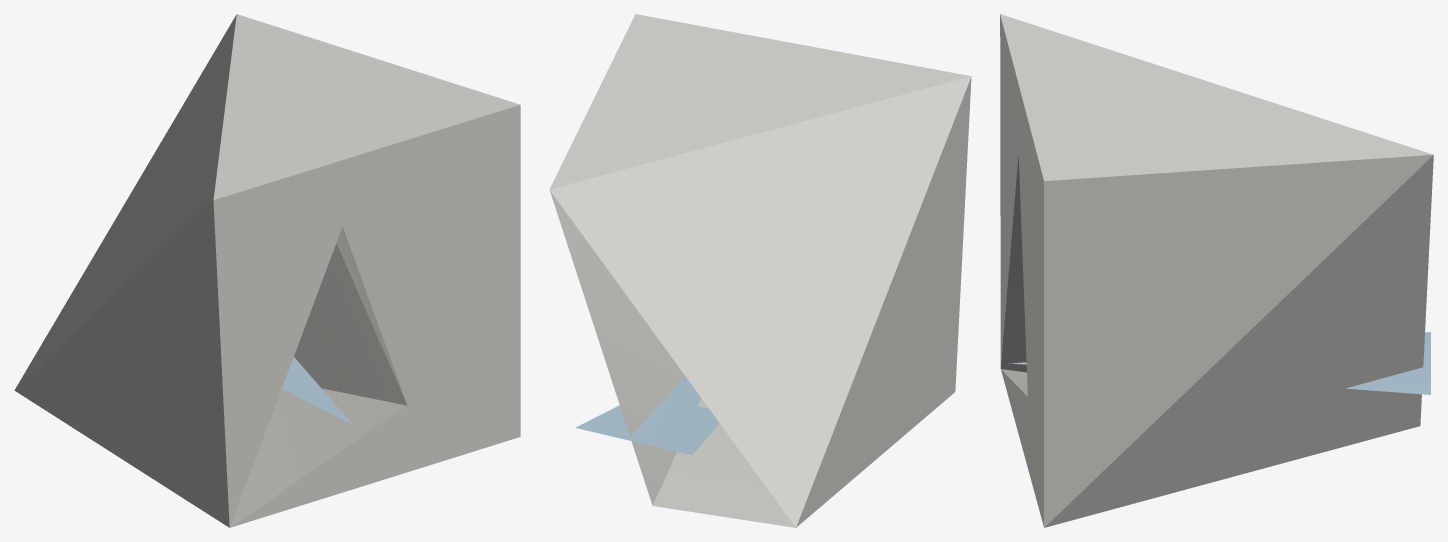
File: difc_gate_lod1.glb
3 renders of one model, left to right at view 1: azimuth 30°, elevation 25°; view 2: azimuth 150°, elevation 25°; view 3: azimuth 270°, elevation 25°, orthographic. The views are drawn at different scales.
Parts seen in each view (by area): view 1: difc_gate_lod1; view 2: difc_gate_lod1; view 3: difc_gate_lod1.
Boxes of the visible parts, x1,y1,x2,y2 form: difc_gate_lod1: (14, 14, 520, 527); difc_gate_lod1: (549, 14, 971, 527); difc_gate_lod1: (1000, 14, 1433, 527).
Bounding box in the file's own units: 63.62 × 60 × 68.02.
